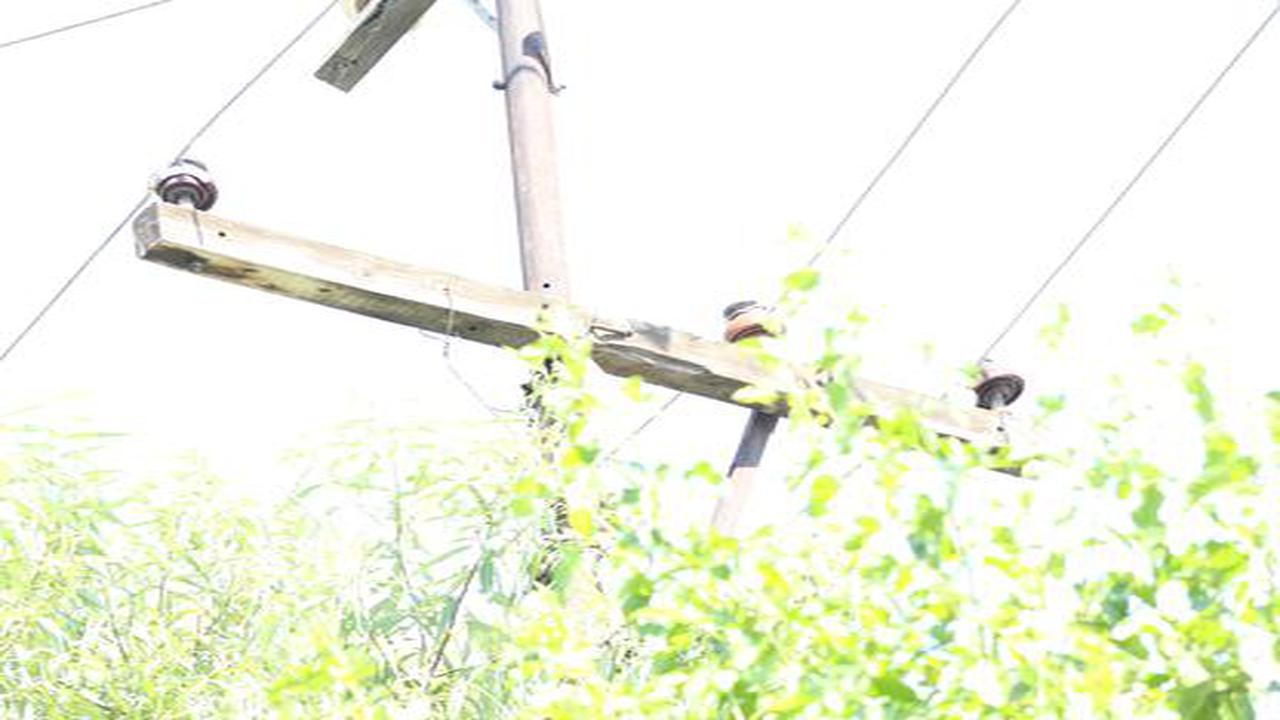defect_pin: (153, 148, 222, 215)
insulator_pin: (711, 294, 783, 349), (966, 354, 1027, 412)
